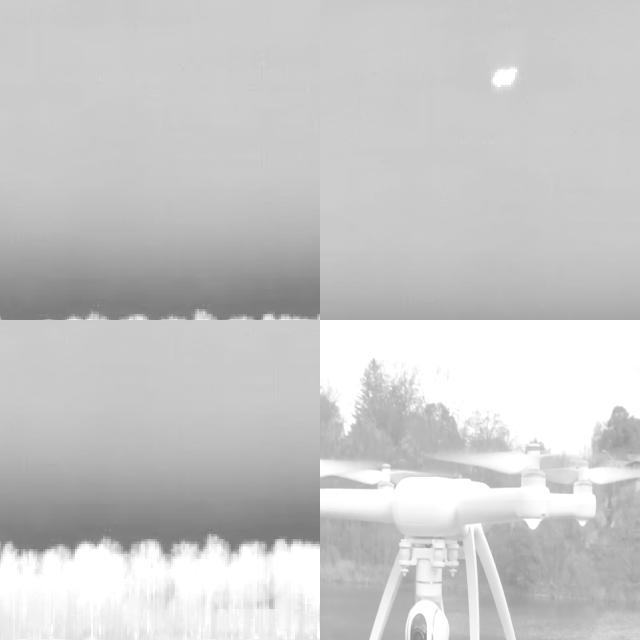1: (485, 63, 529, 96)
drone: (320, 442, 606, 640)
